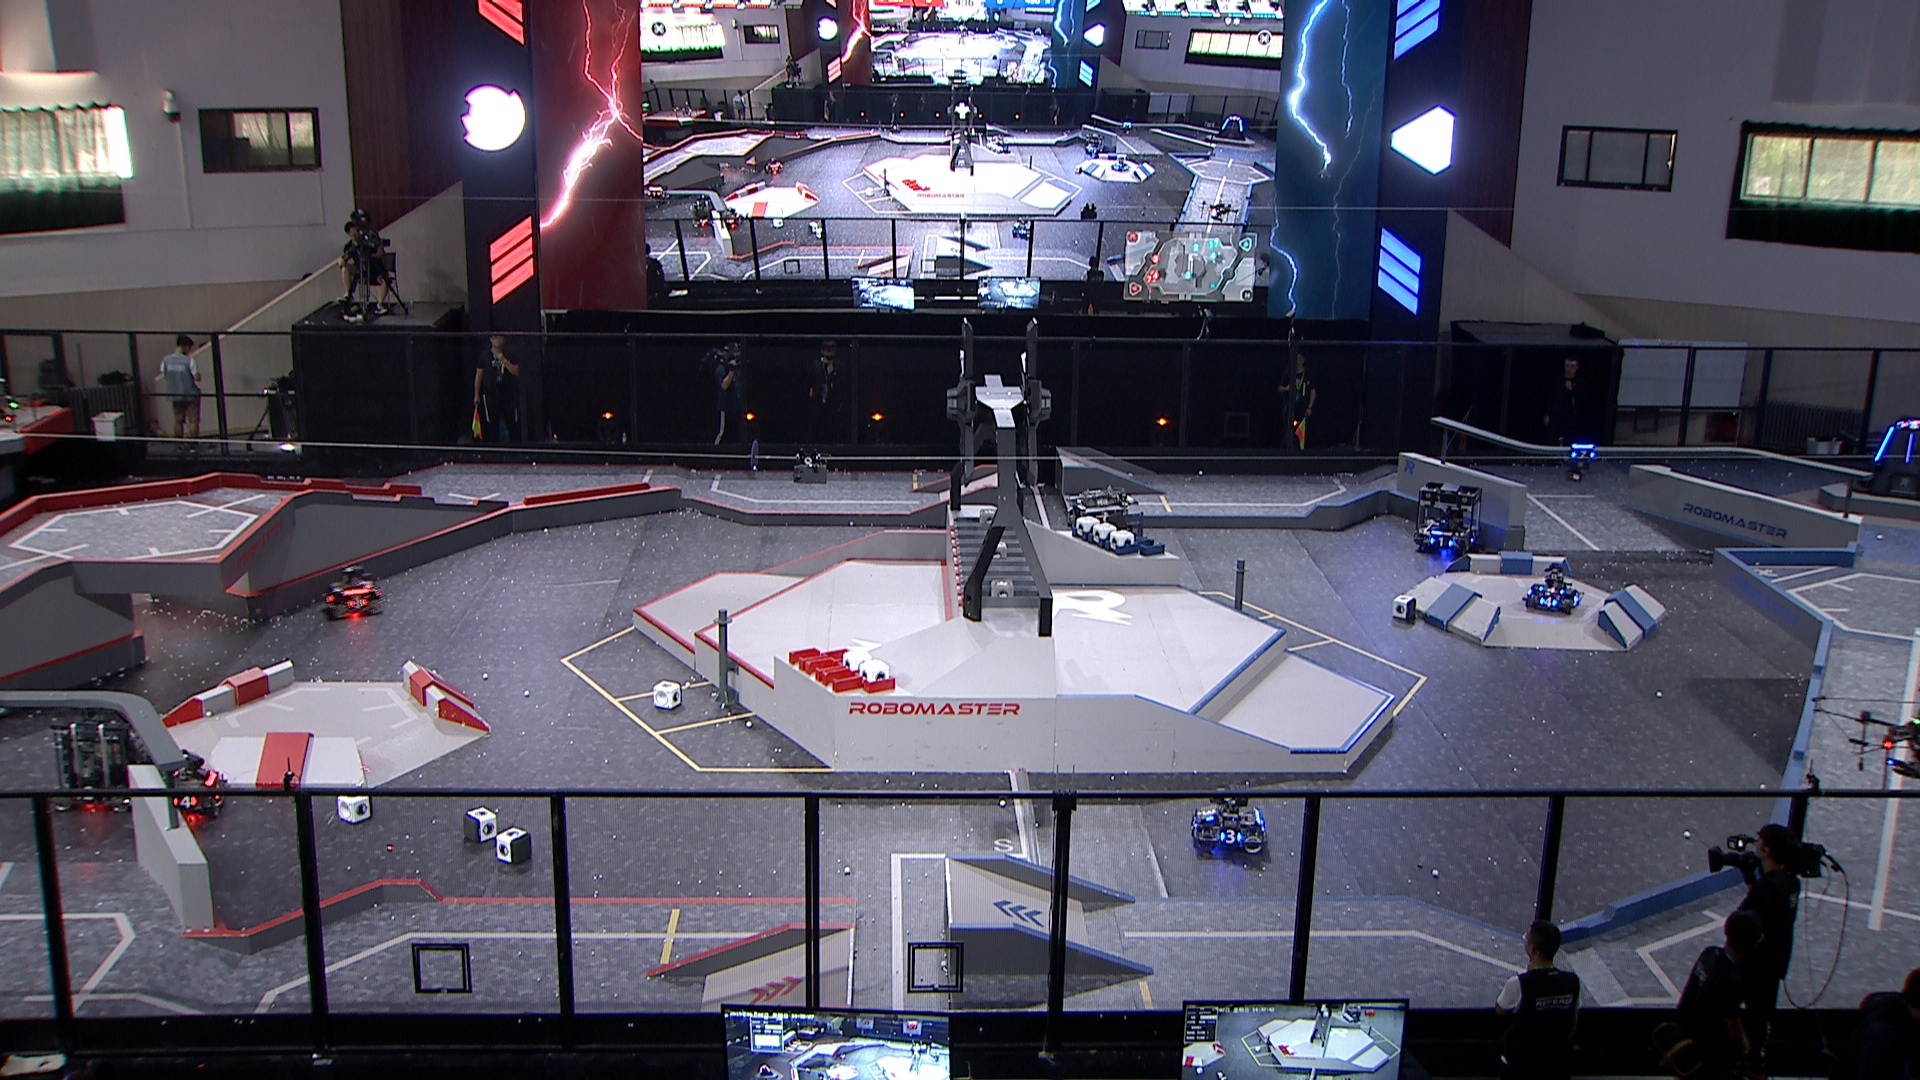armor: (1873, 427, 1898, 463), (171, 793, 199, 811), (1536, 583, 1567, 597), (1429, 535, 1457, 551), (345, 593, 371, 611), (1218, 829, 1244, 845), (1903, 433, 1915, 465), (1569, 448, 1598, 462), (1538, 597, 1560, 611), (1201, 806, 1218, 823), (1466, 531, 1481, 545)
base: (1851, 418, 1920, 502)
car: (53, 704, 167, 816), (1063, 485, 1149, 574), (153, 749, 225, 822), (1191, 789, 1269, 855), (1414, 483, 1484, 555), (1520, 564, 1585, 616), (324, 564, 385, 618)
ignore: (690, 195, 717, 228), (1218, 115, 1249, 142), (646, 183, 670, 207), (1087, 133, 1109, 156), (1010, 218, 1033, 240), (723, 208, 746, 229), (1898, 418, 1920, 433), (1112, 157, 1130, 171), (765, 160, 785, 173), (1120, 121, 1134, 136)
watcher: (1564, 443, 1600, 485)
